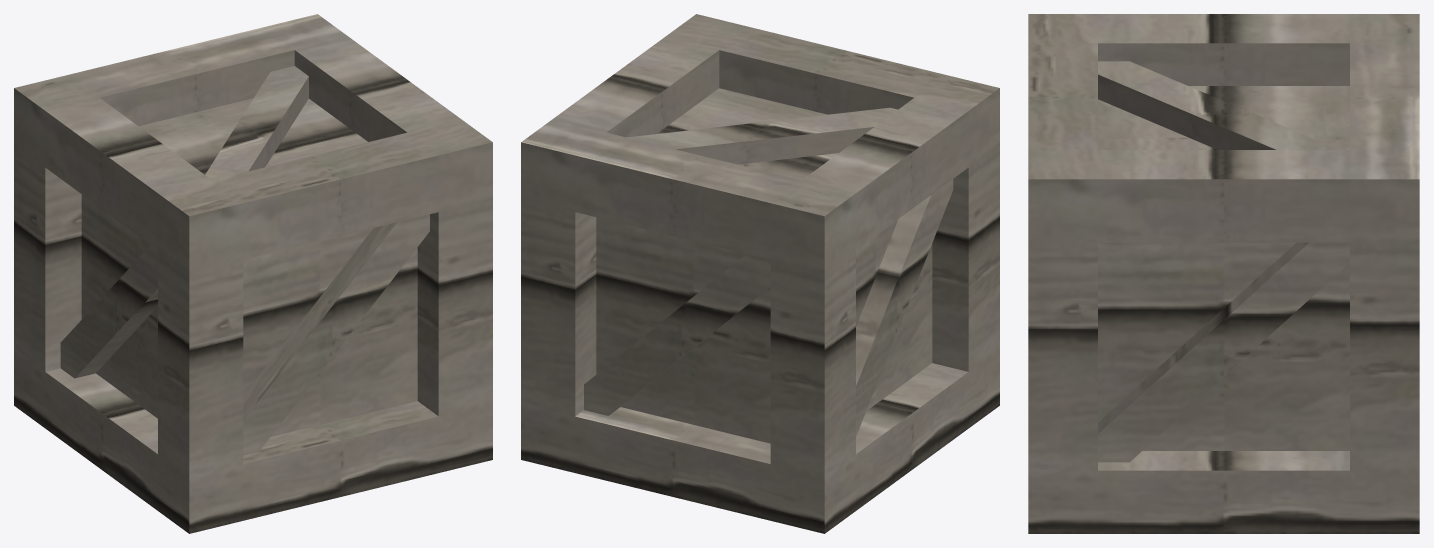
3 views of the same model, side by side, from view 1: azimuth 30°, elevation 25°; view 2: azimuth 150°, elevation 25°; view 3: azimuth 270°, elevation 25° (orthographic). The views are drawn at different scales.
Visible parts, largest first — view 1: mergedBlocks; view 2: mergedBlocks; view 3: mergedBlocks.
Boxes of the visible parts, x1,y1,x2,y2 form: mergedBlocks: [14, 14, 492, 533]; mergedBlocks: [521, 14, 999, 533]; mergedBlocks: [1028, 14, 1419, 533].
Bounding box in the file's own units: 3 × 3 × 3.
2 materials, 2 textured.
